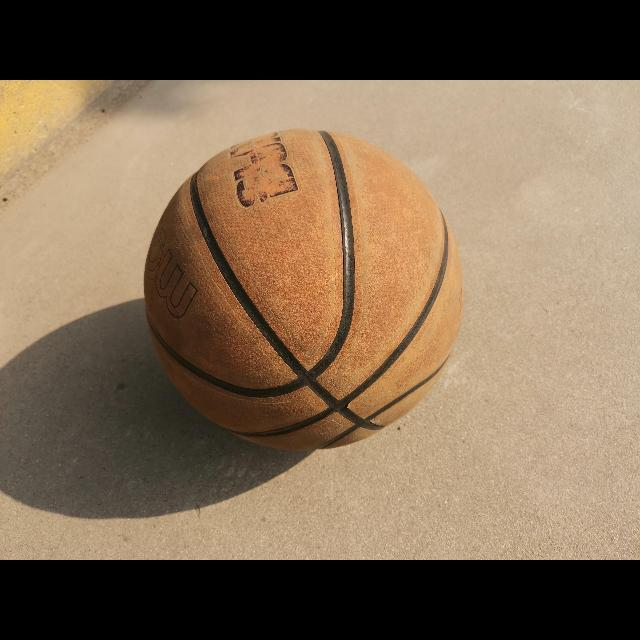basketball: (142, 130, 462, 452)
